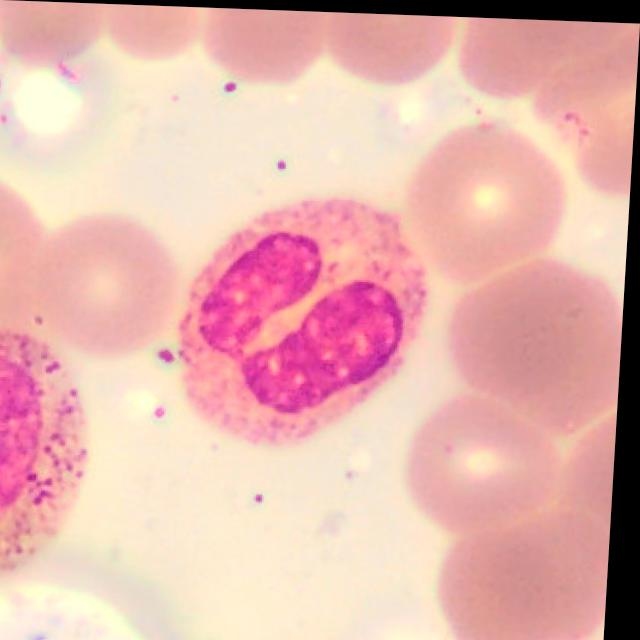Neutrofilo segmentado: (181, 193, 430, 444)
